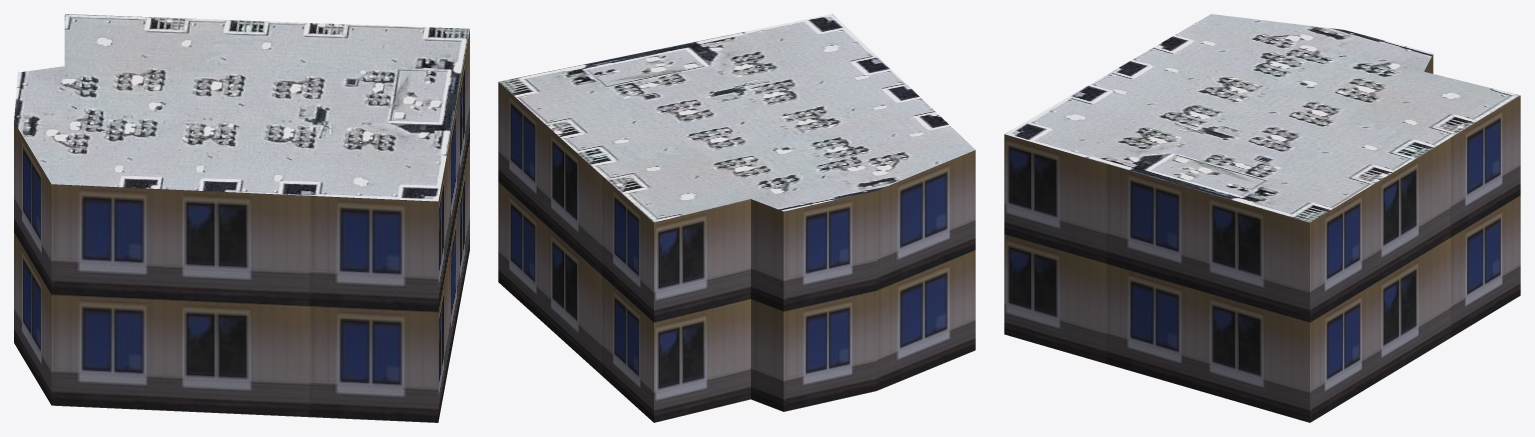
Rendered from ResTex__4376.fbx.
The picture shows the model from 3 angles, left to right: view 1: azimuth 30°, elevation 25°; view 2: azimuth 150°, elevation 25°; view 3: azimuth 270°, elevation 25°; orthographic projection. The views are drawn at different scales.
Parts seen in each view (by area): view 1: CityEngineMaterial_5_m, CityEngineMaterial_m; view 2: CityEngineMaterial_5_m, CityEngineMaterial_m; view 3: CityEngineMaterial_5_m, CityEngineMaterial_m.
Part boxes in pixels (x1,y1,x2,y2): CityEngineMaterial_5_m: (14, 30, 469, 422); CityEngineMaterial_m: (14, 14, 469, 201); CityEngineMaterial_5_m: (498, 82, 975, 422); CityEngineMaterial_m: (498, 14, 975, 222); CityEngineMaterial_5_m: (1004, 54, 1520, 422); CityEngineMaterial_m: (1004, 14, 1520, 222).
Size of the model in its own units: 13.41 by 6 by 14.03.
2 materials, 2 textured.
